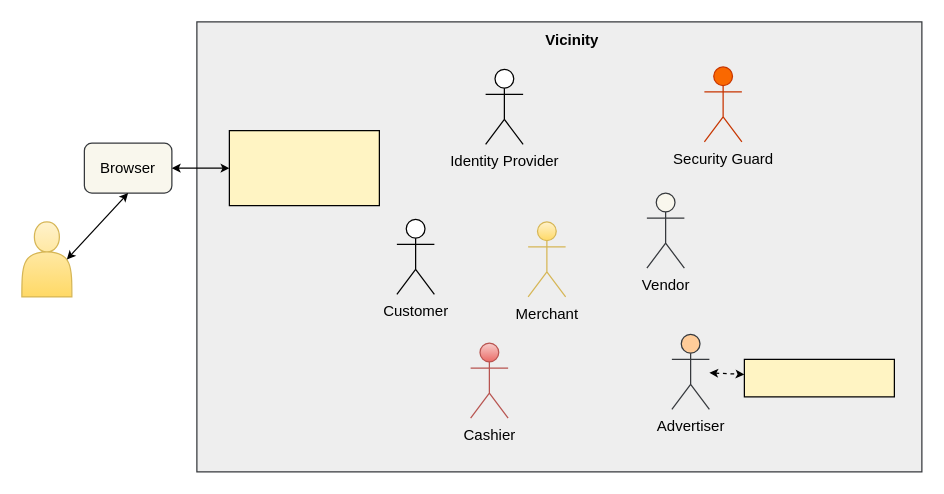
Image size: 944x494. Some labels were removed from this diagram. The centre of each missing label's shape, as x and y in pixels:
"advertiser-servce" belongs at (x=818, y=377).
"hub-service websocket /api /index.html" belongs at (x=303, y=167).
